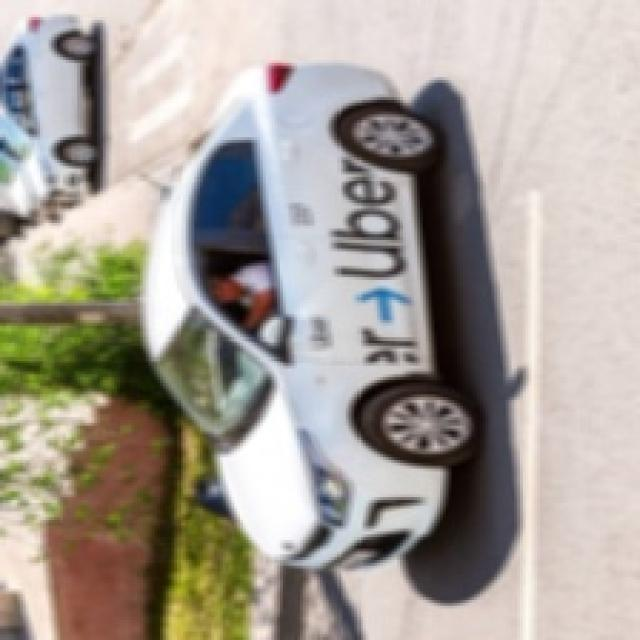car: (154, 45, 467, 579), (8, 4, 106, 204)
